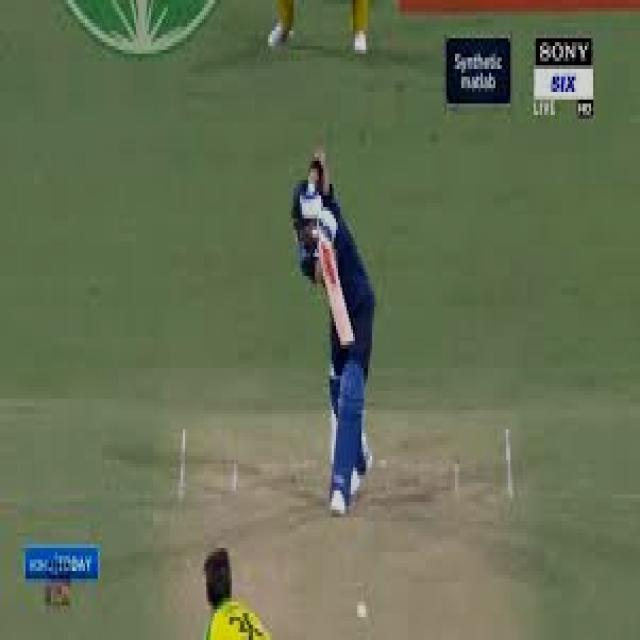bat: (314, 237, 362, 351)
toe: (335, 333, 360, 349)
